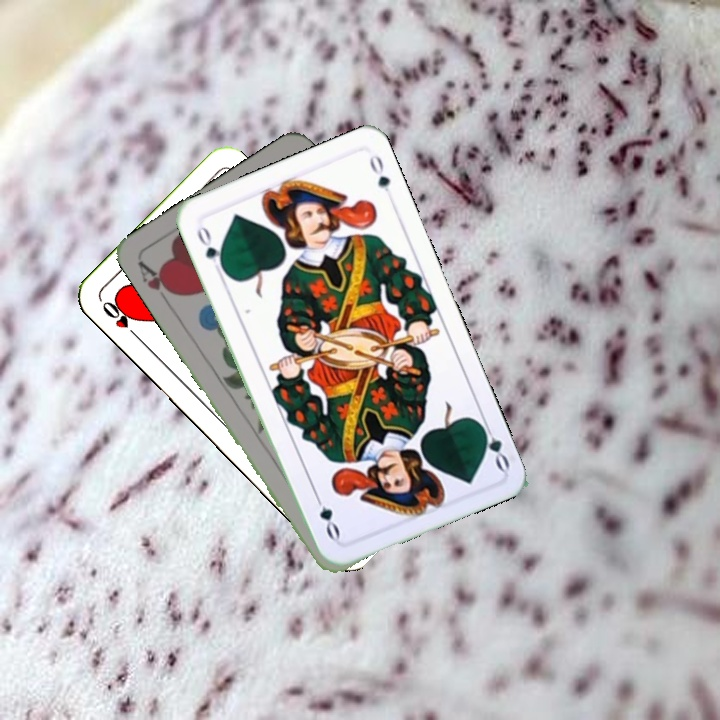GO: (475, 416, 513, 473), (192, 220, 228, 275)
HA: (134, 257, 179, 309)
HO: (98, 297, 144, 343)
